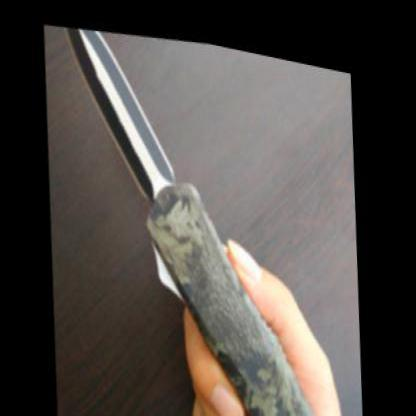knife: (47, 8, 319, 413)
